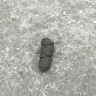Dog: (39, 36, 54, 72)
